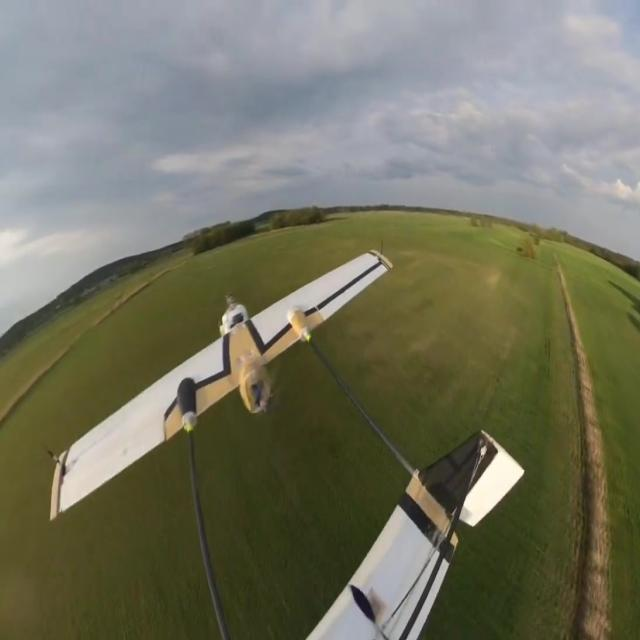iha: (48, 247, 526, 637)
